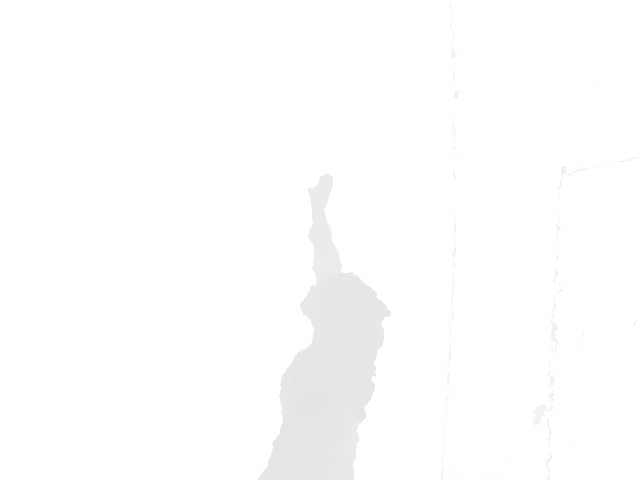hand: (306, 172, 335, 214)
head: (300, 272, 394, 343)
person: (256, 173, 393, 480)
